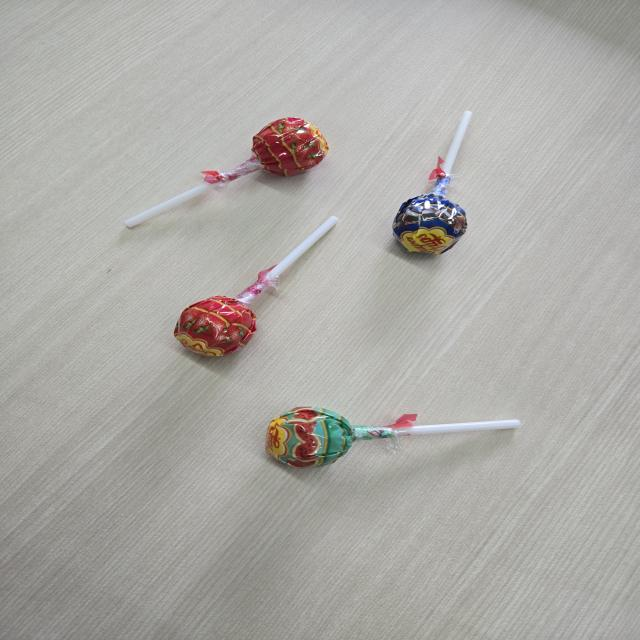lollipop: (172, 210, 350, 363), (125, 115, 334, 231), (261, 403, 524, 476), (390, 107, 486, 265)
